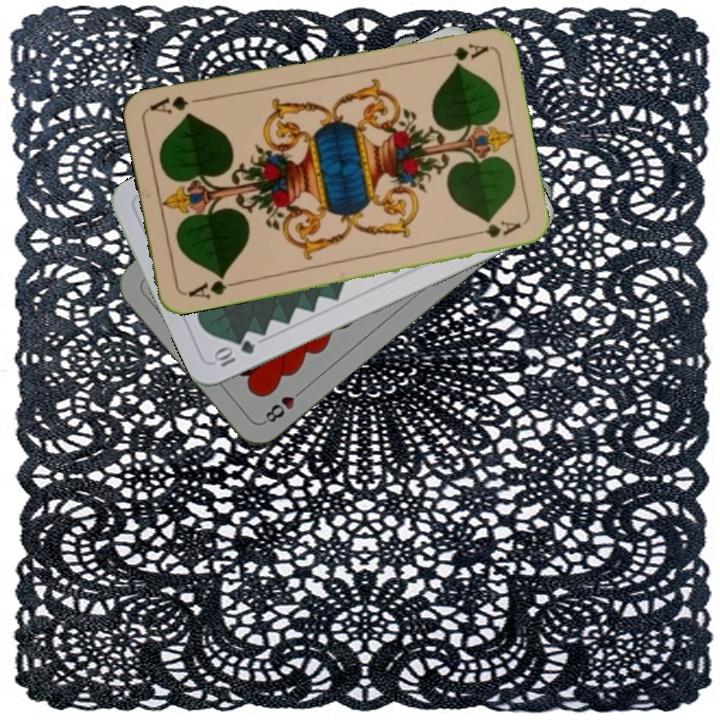G10: (210, 336, 258, 370)
GA: (181, 270, 240, 301), (432, 39, 491, 64)
H8: (259, 383, 308, 426)
